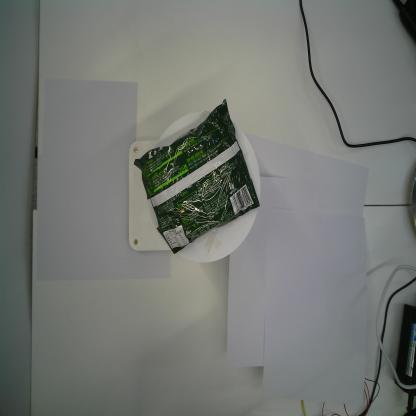Instant Noodles: (132, 94, 262, 256)
